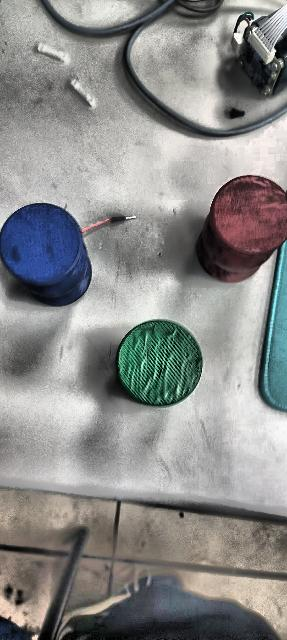blue: (1, 202, 93, 306)
green: (116, 318, 203, 406)
red: (199, 170, 287, 284)
